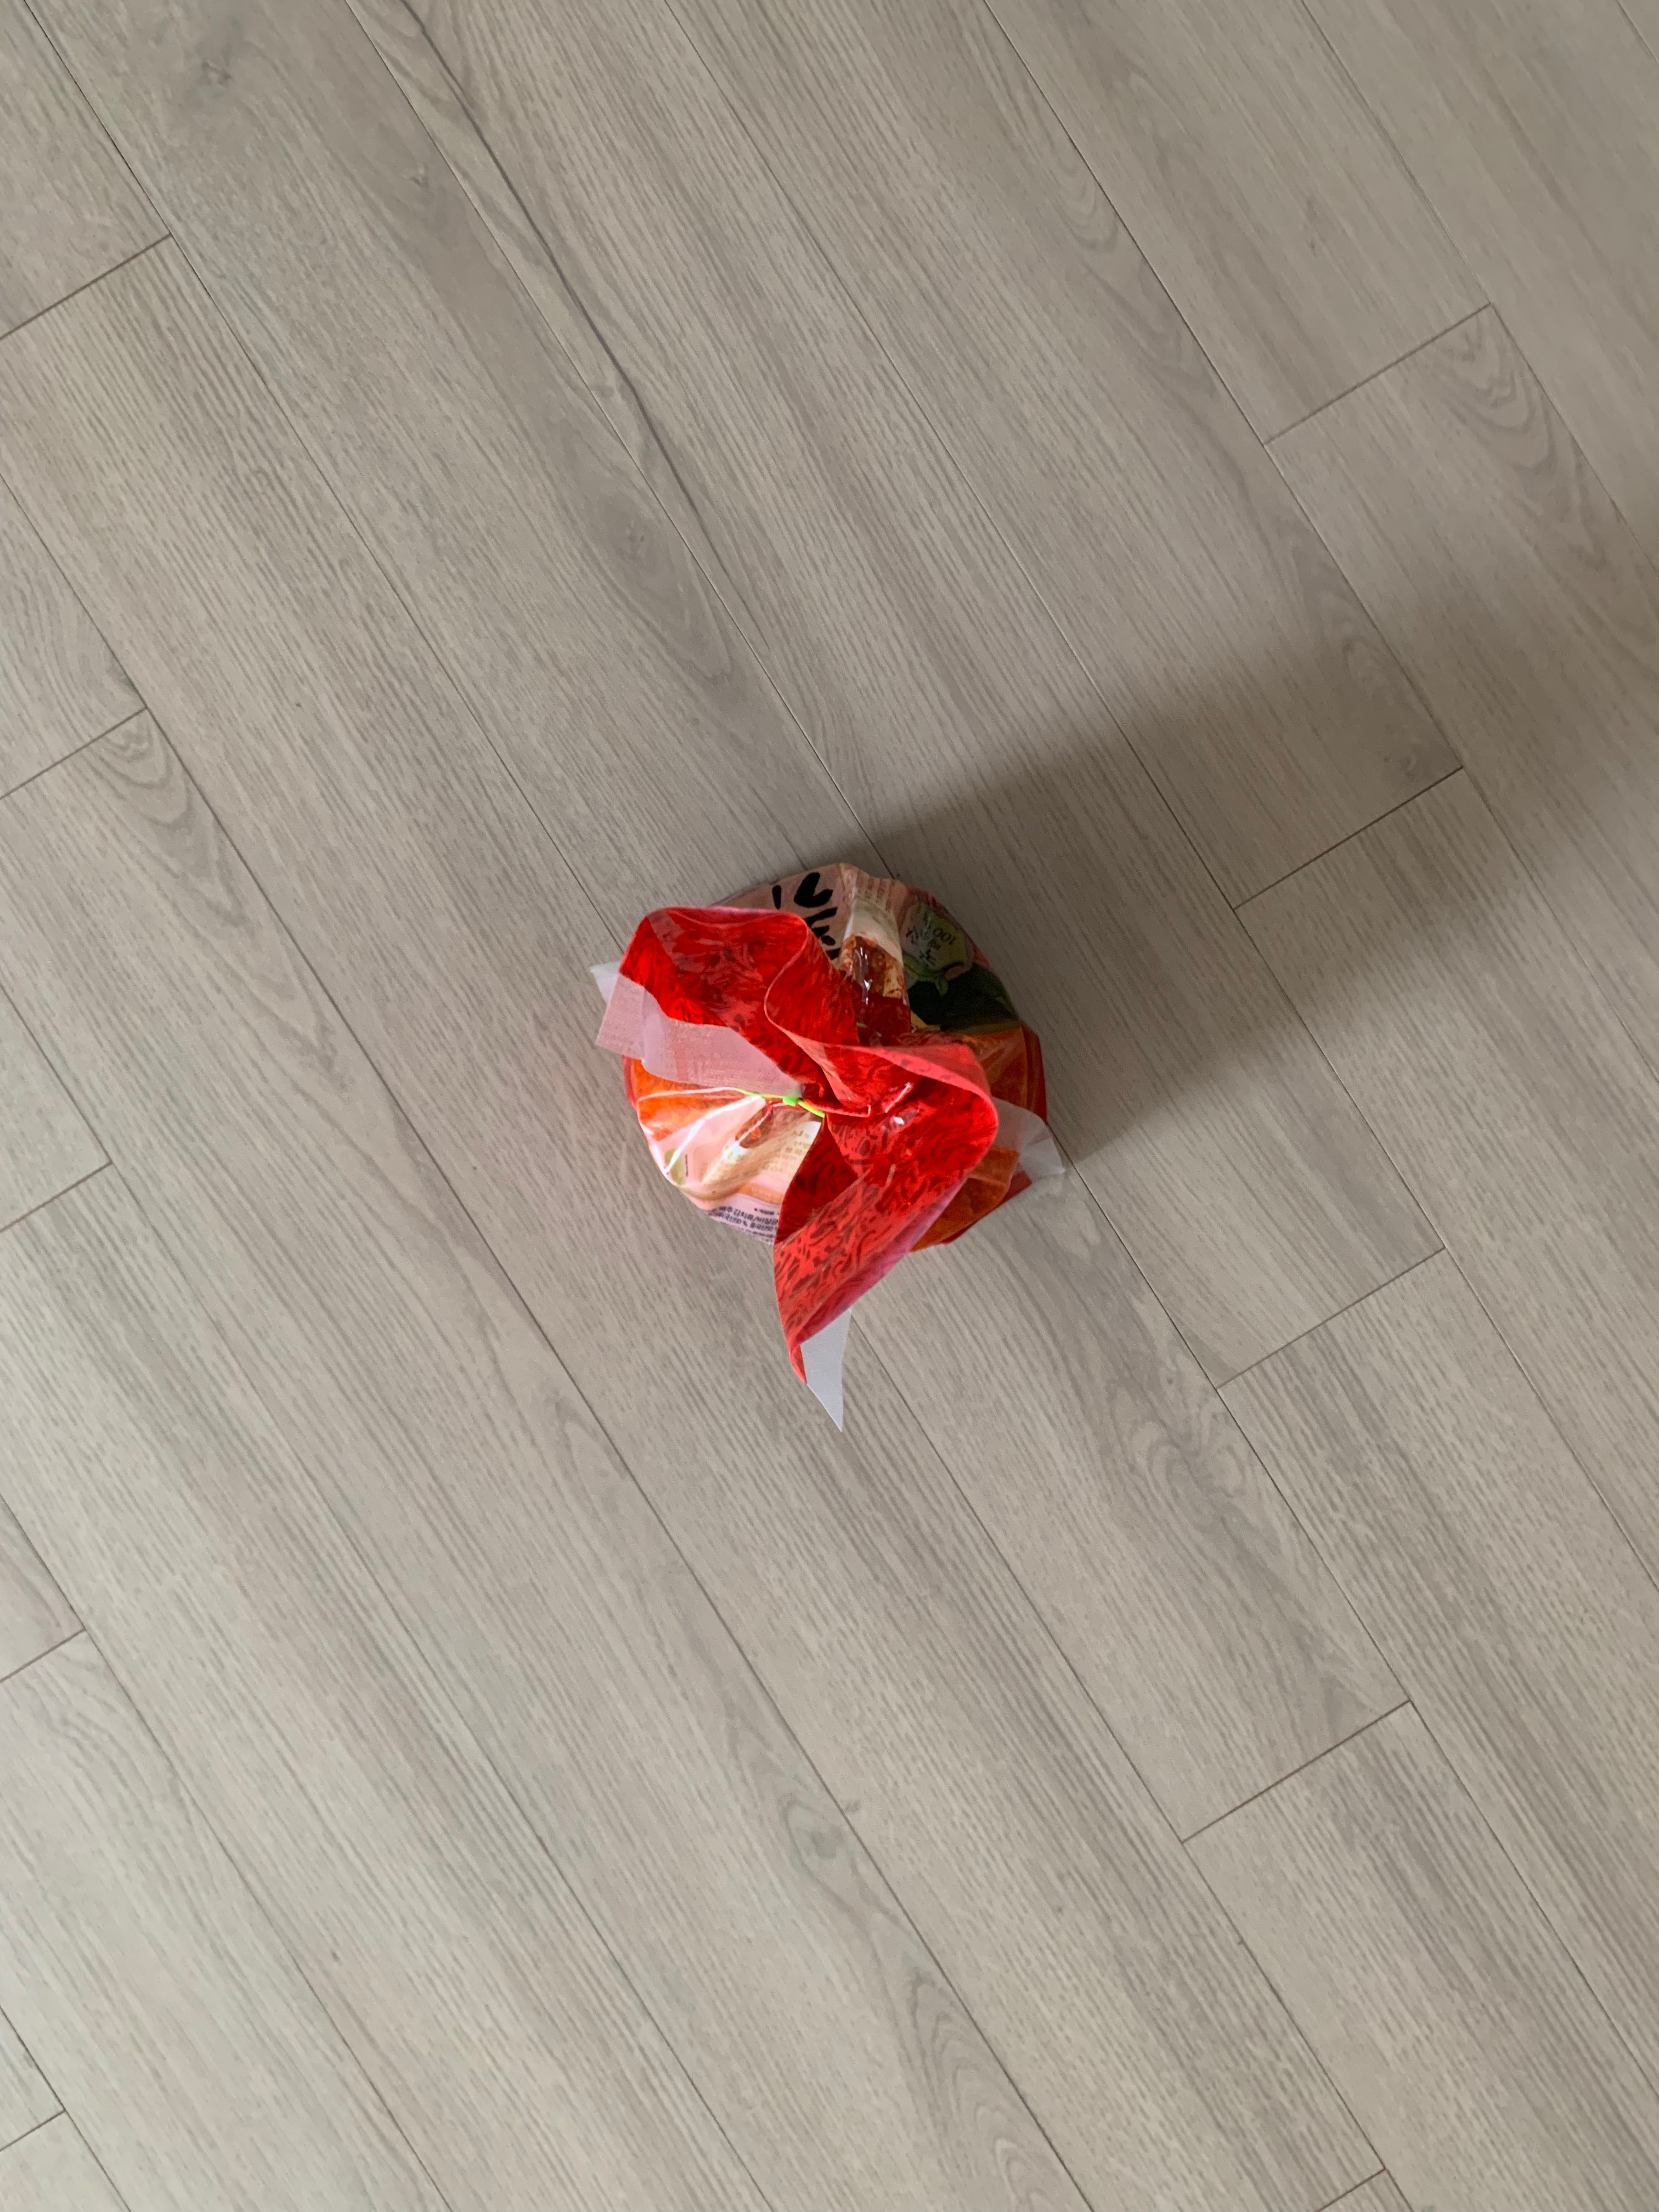kimchi: (601, 859, 1063, 1334)
